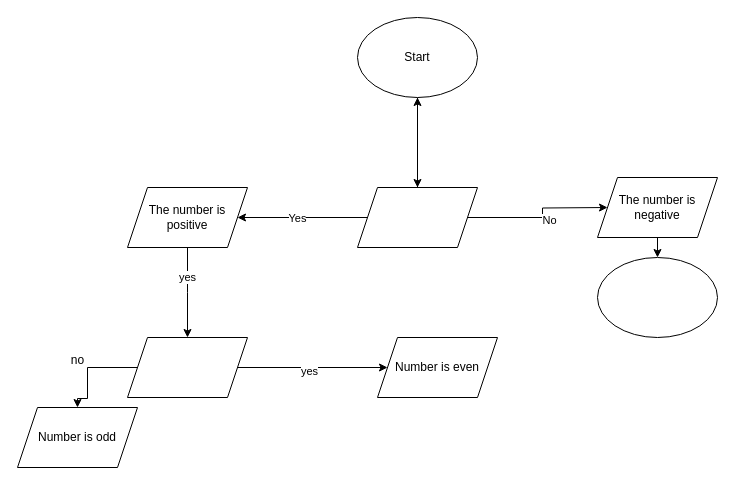
The diagram is 735 pixels wide and 485 high, and some of its shapes have lost their labels. The shapes that lost their labels are listed below. From the top down, each one's centre as x and y in pixels, then its label:
the point at 417,217: Is number>0
the point at 657,297: Stop
the point at 187,367: Is number fully divesible by 2 rem=0
